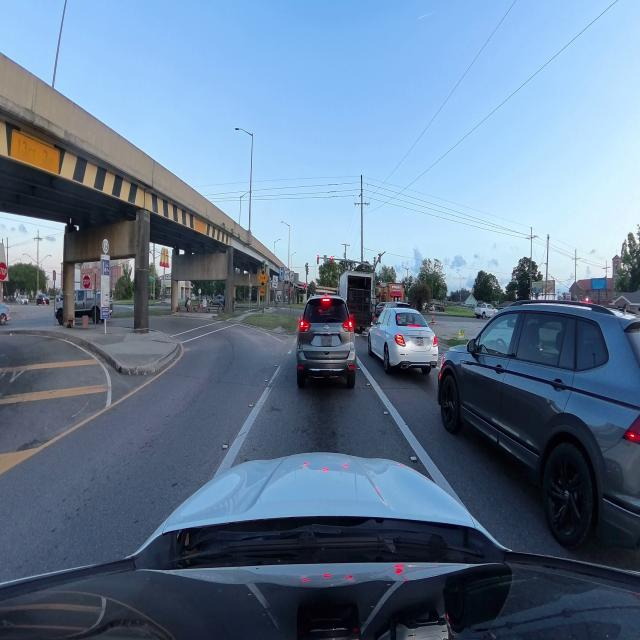car: (438, 301, 639, 546), (297, 296, 355, 388), (368, 308, 438, 373), (475, 303, 498, 319)
